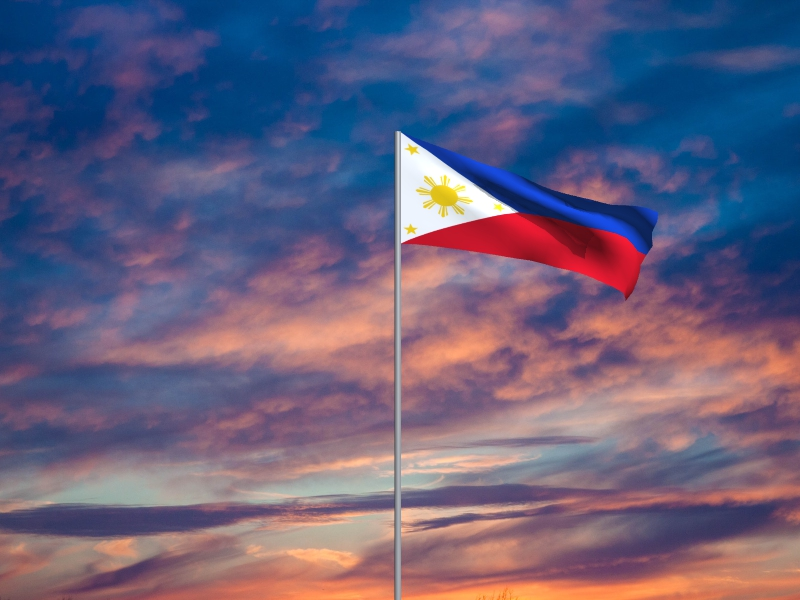ph: (400, 133, 659, 303)
